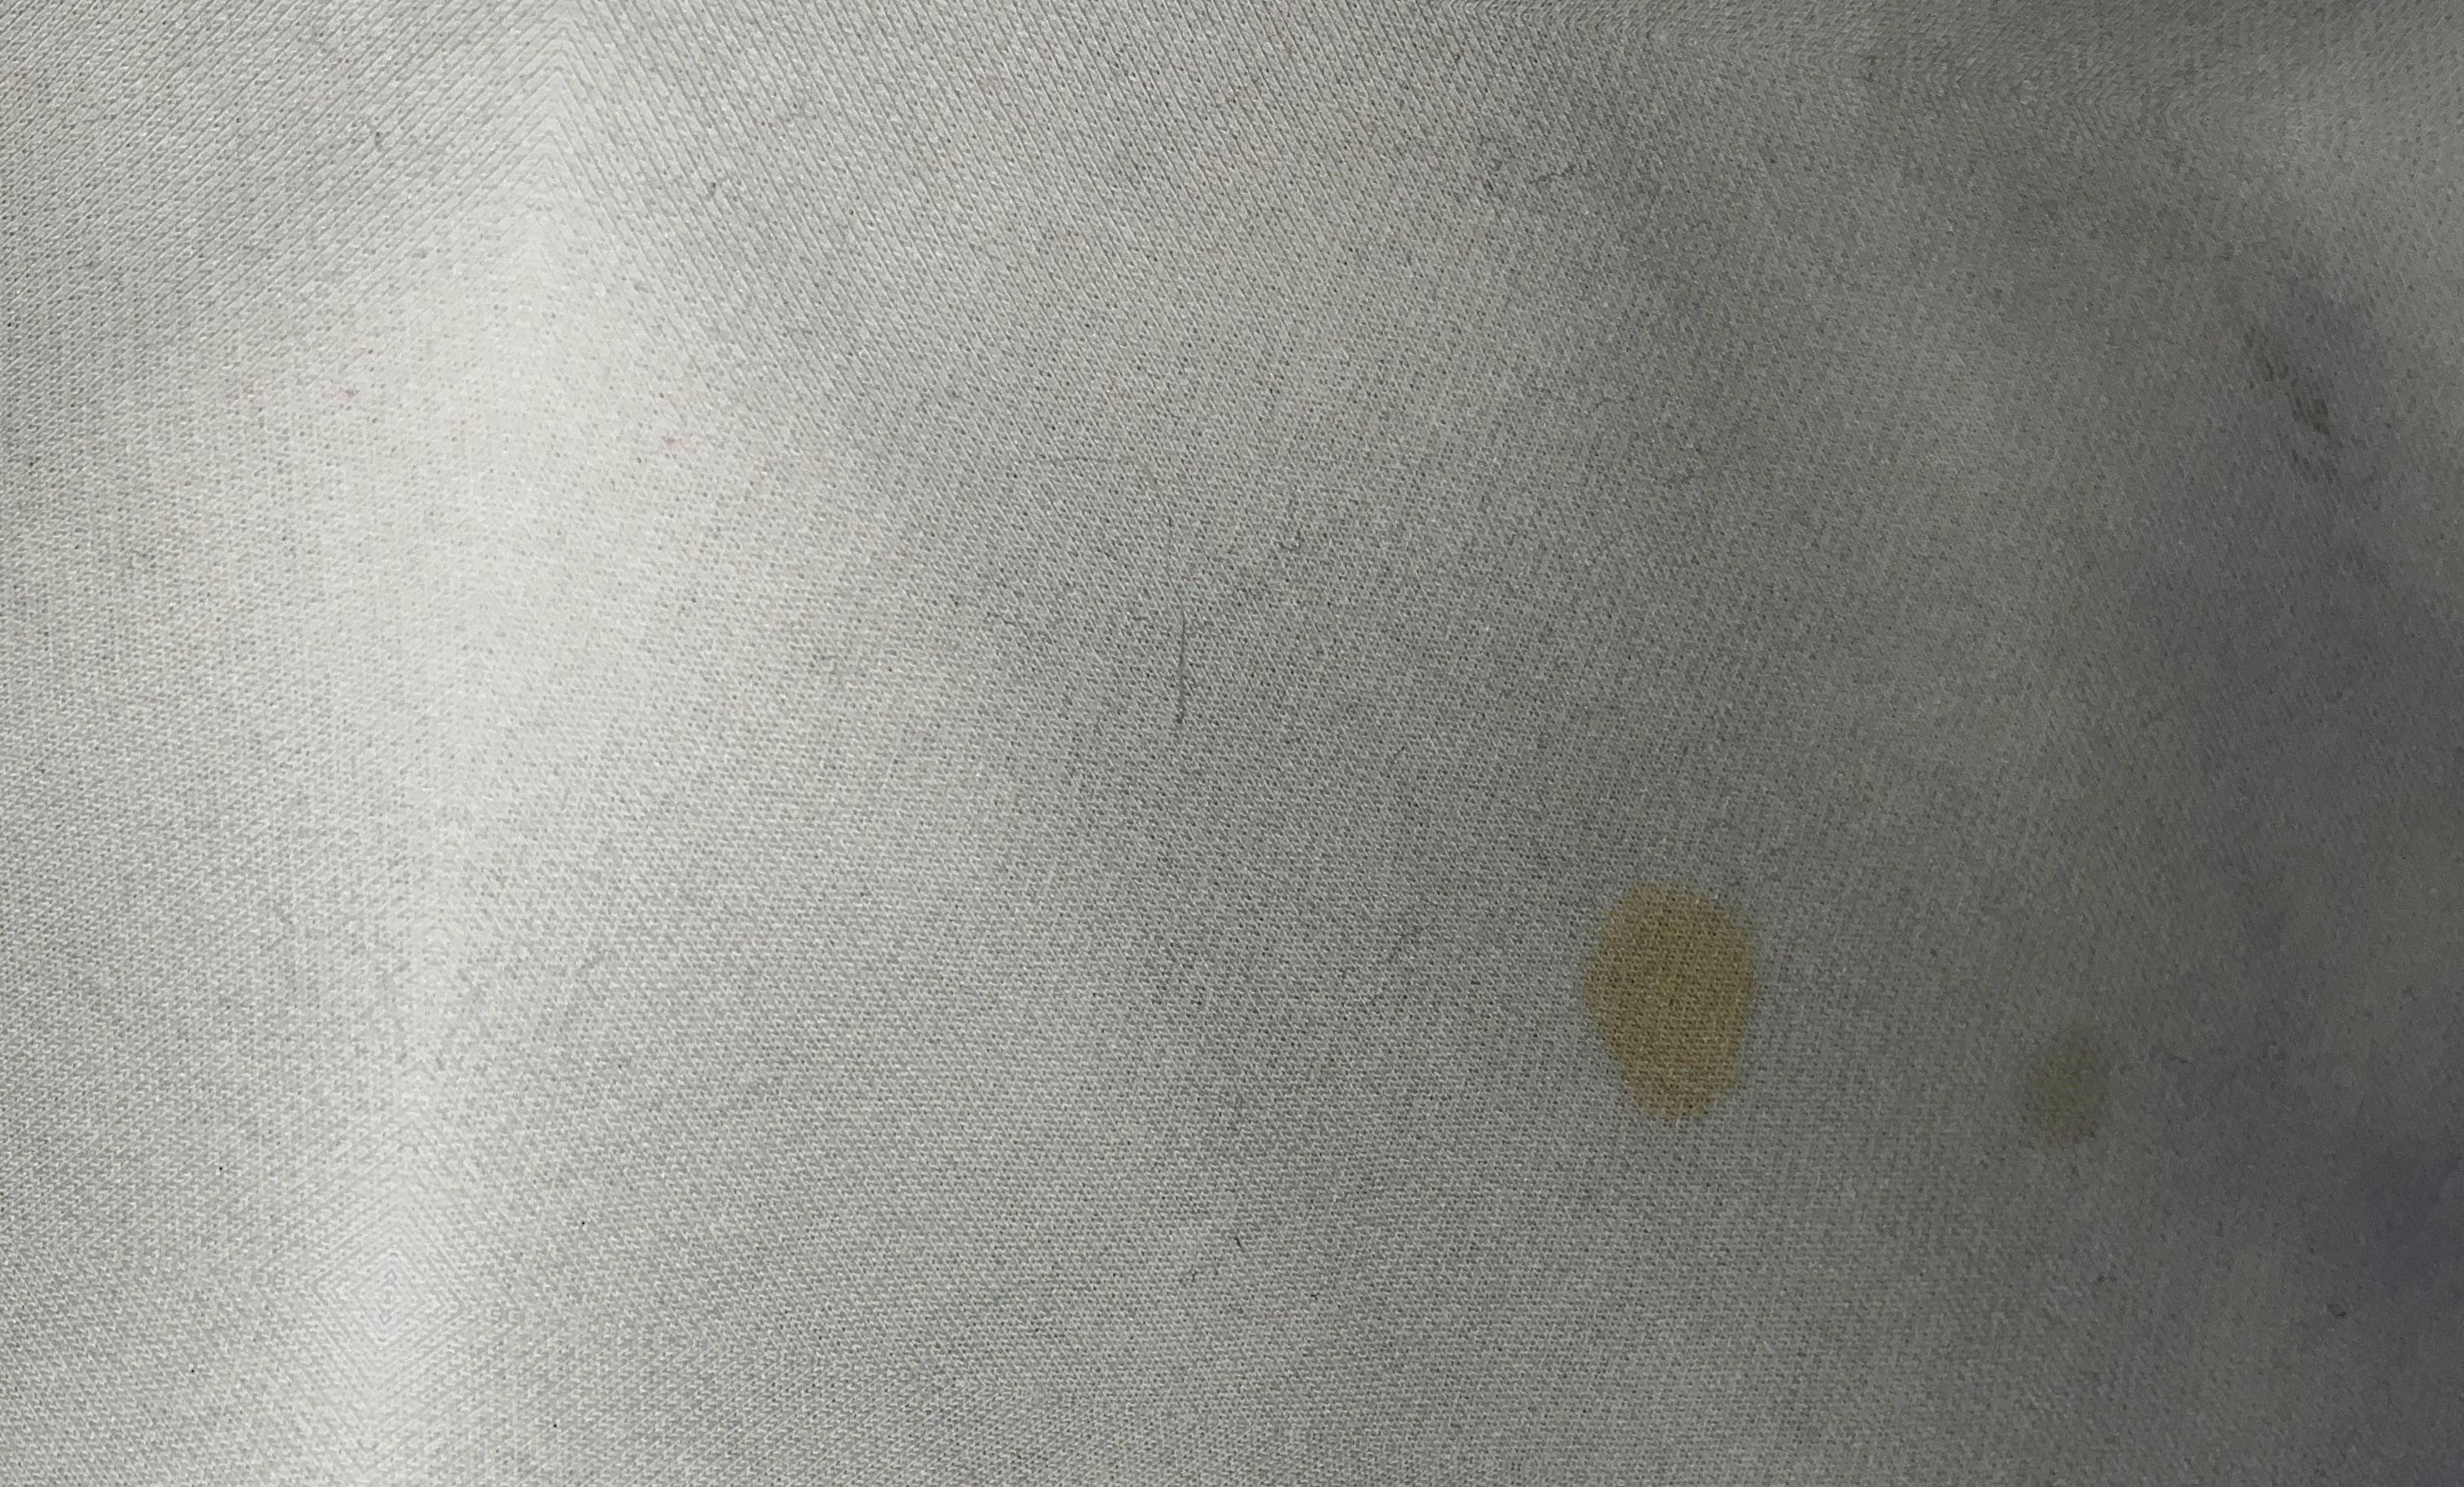stain: (1566, 869, 1790, 1140), (1999, 1008, 2144, 1172)
